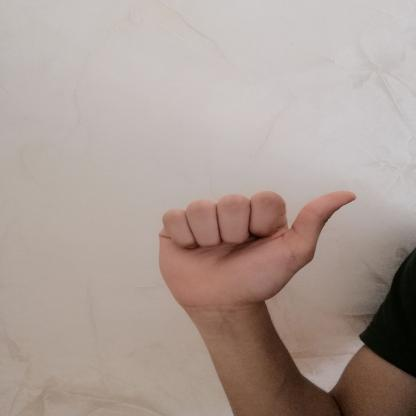DAD: (146, 178, 368, 320)
